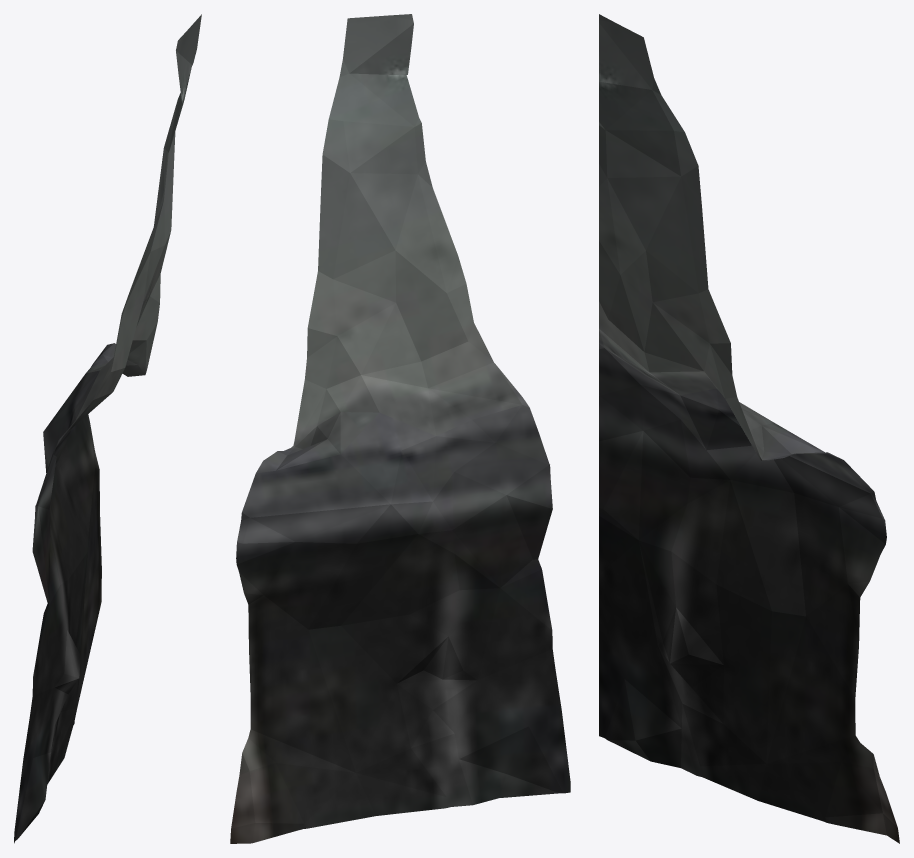
3 views of the same model, side by side, from view 1: azimuth 30°, elevation 25°; view 2: azimuth 150°, elevation 25°; view 3: azimuth 270°, elevation 25° (orthographic). The views are drawn at different scales.
Size of the model in its own units: 0.2401 by 0.8373 by 0.2832.
Materials: 1 (1 with a texture image).
